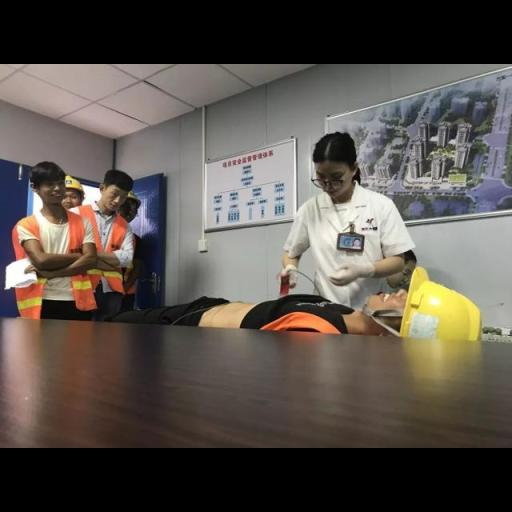Person: (270, 123, 424, 320), (5, 148, 102, 327), (72, 164, 141, 308)
helmet: (405, 260, 484, 356)
none: (280, 179, 414, 290)
vest: (7, 204, 102, 310), (74, 198, 132, 291)
